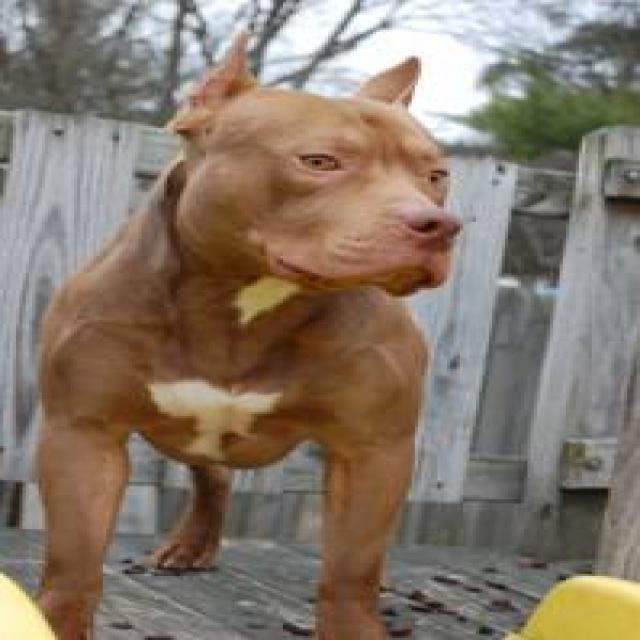dog-american_pit_bull_terrier: (19, 41, 470, 636)
